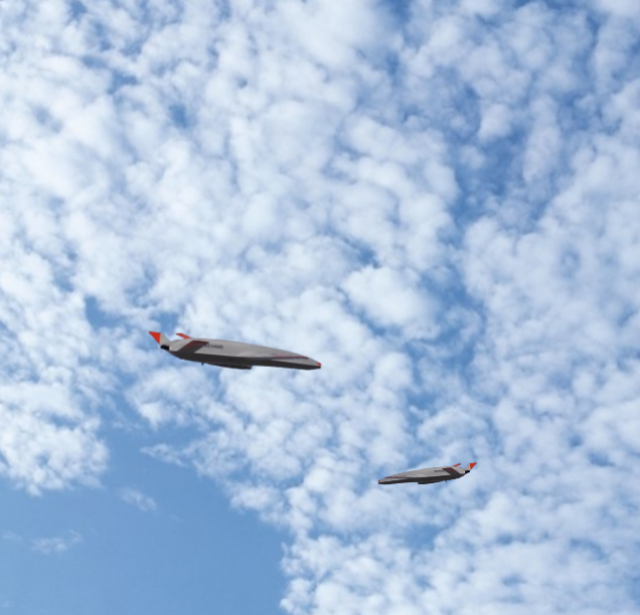military drone: (148, 331, 321, 370), (377, 461, 476, 484)
